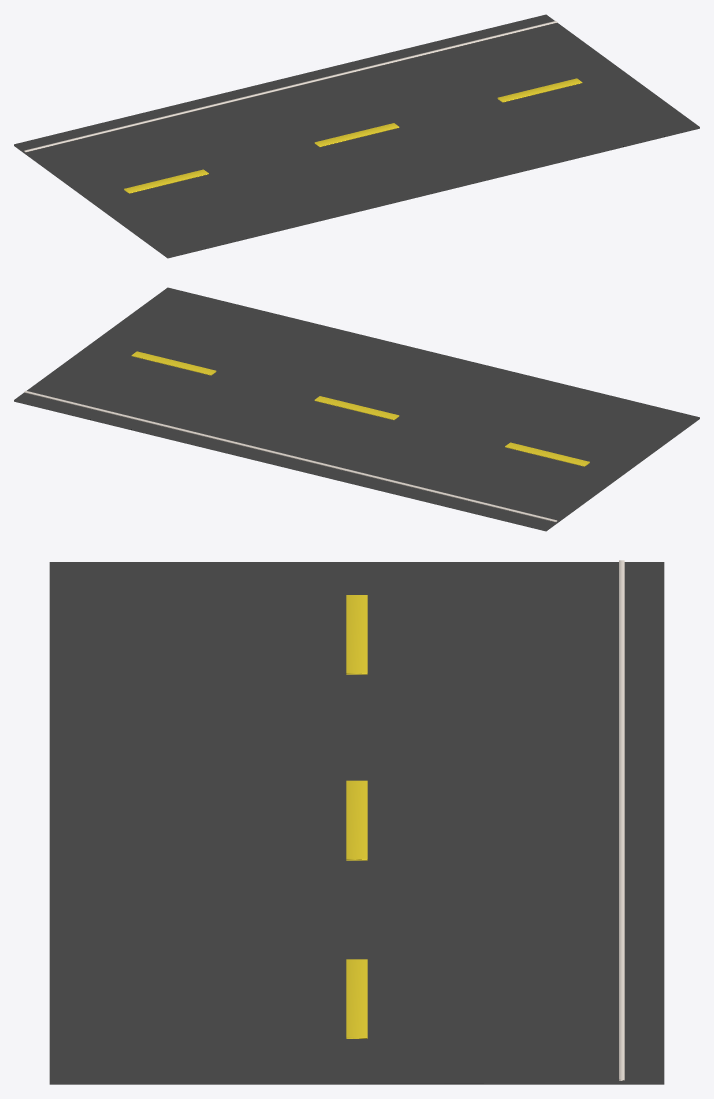
Rendered from road3.fbx.
The picture shows the model from 3 angles, top to bottom: view 1: azimuth 30°, elevation 25°; view 2: azimuth 150°, elevation 25°; view 3: azimuth 270°, elevation 25°; orthographic projection. The views are drawn at different scales.
Visible parts, largest first — view 1: Cube, Cube.005, Cube.003, Cube.002, Cube.001; view 2: Cube, Cube.005, Cube.003, Cube.002, Cube.001; view 3: Cube, Cube.005, Cube.001, Cube.003, Cube.002.
Boxes of the visible parts, x1=… form: Cube: x1=14, y1=14, x2=699, y2=258; Cube.005: x1=24, y1=21, x2=557, y2=152; Cube.003: x1=124, y1=169, x2=208, y2=193; Cube.002: x1=497, y1=78, x2=582, y2=102; Cube.001: x1=314, y1=123, x2=399, y2=146; Cube: x1=14, y1=287, x2=699, y2=531; Cube.005: x1=24, y1=391, x2=557, y2=522; Cube.003: x1=505, y1=442, x2=589, y2=466; Cube.002: x1=131, y1=351, x2=216, y2=375; Cube.001: x1=314, y1=396, x2=399, y2=419; Cube: x1=49, y1=562, x2=664, y2=1084; Cube.005: x1=619, y1=560, x2=624, y2=1080; Cube.001: x1=346, y1=780, x2=367, y2=860; Cube.003: x1=346, y1=595, x2=367, y2=674; Cube.002: x1=346, y1=959, x2=367, y2=1038.
Size of the model in its own units: 400 by 1.96 by 200.
